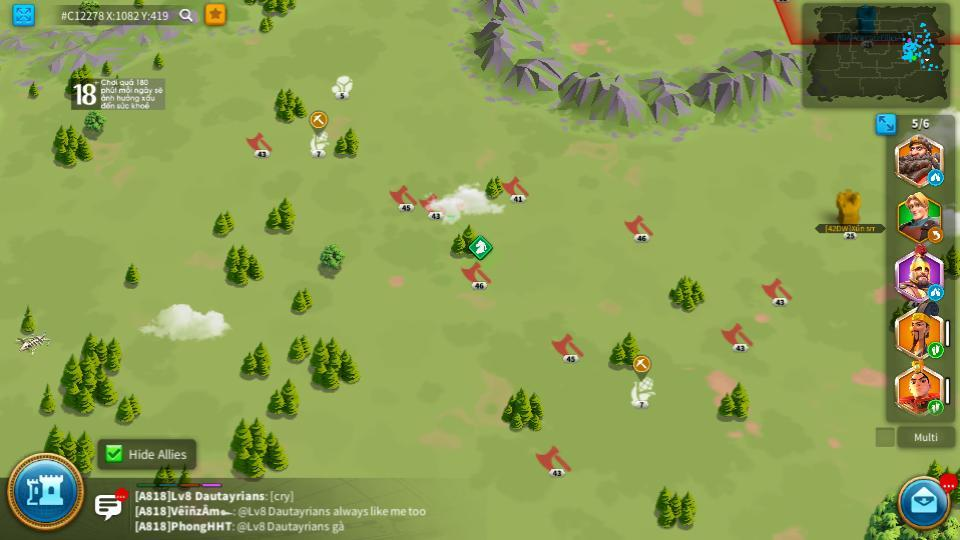gem-z-out: (171, 304, 193, 315)
march_idle: (929, 284, 942, 299), (929, 172, 943, 185)
march_marching: (927, 402, 944, 414), (928, 345, 942, 358)
march_returning: (929, 229, 943, 241)
